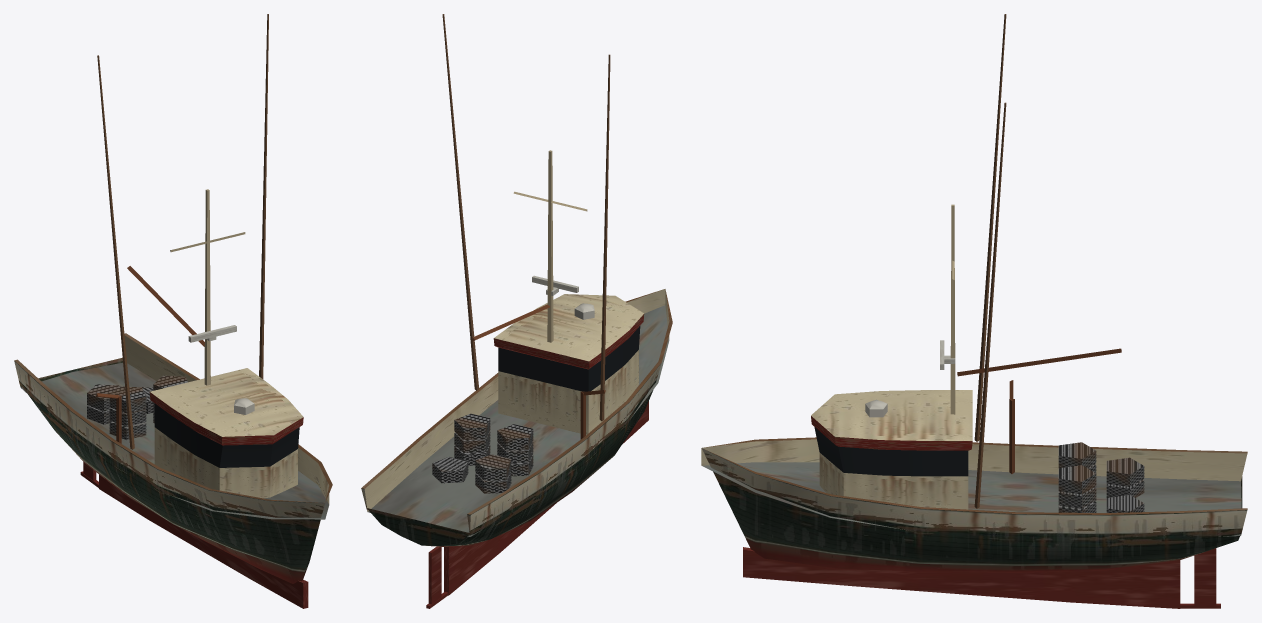
File: fishingBoat-b-lod2.glb
3 renders of one model, left to right at view 1: azimuth 30°, elevation 25°; view 2: azimuth 150°, elevation 25°; view 3: azimuth 270°, elevation 25°, orthographic. The views are drawn at different scales.
Visible parts, largest first — view 1: Hull, Superstructure, Rig, Gear; view 2: Hull, Superstructure, Gear, Rig; view 3: Hull, Superstructure, Rig, Gear.
Part boxes in pixels (bbox=[...]): Hull: bbox=[14, 333, 332, 608]; Superstructure: bbox=[149, 368, 303, 498]; Rig: bbox=[97, 14, 268, 449]; Gear: bbox=[87, 375, 187, 443]; Hull: bbox=[361, 289, 672, 608]; Superstructure: bbox=[493, 294, 644, 434]; Gear: bbox=[432, 390, 605, 493]; Rig: bbox=[442, 14, 610, 421]; Hull: bbox=[701, 437, 1247, 608]; Superstructure: bbox=[811, 390, 972, 509]; Rig: bbox=[865, 14, 1121, 508]; Gear: bbox=[1009, 380, 1144, 512].
Size of the model in its own units: 4.84 by 13.85 by 12.48.
Materials: 1 (1 with a texture image).
